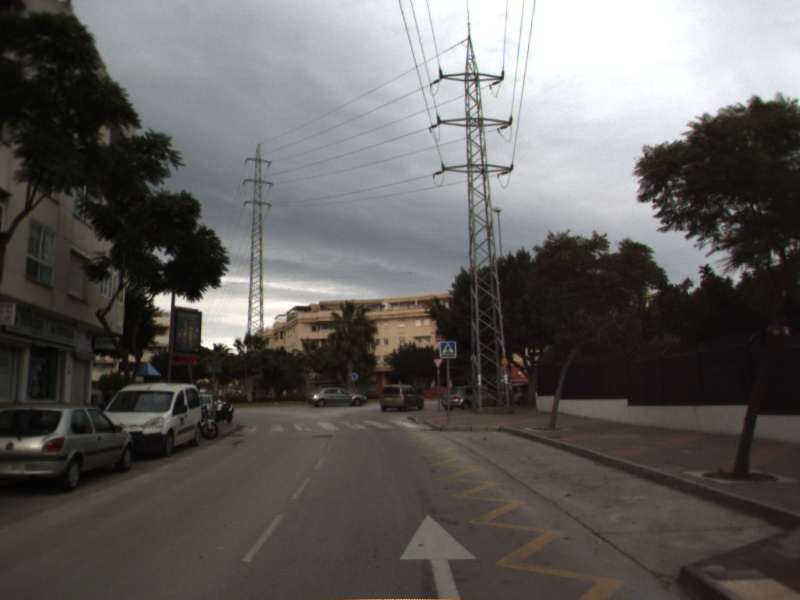STRAIGHT: (396, 509, 482, 600)
